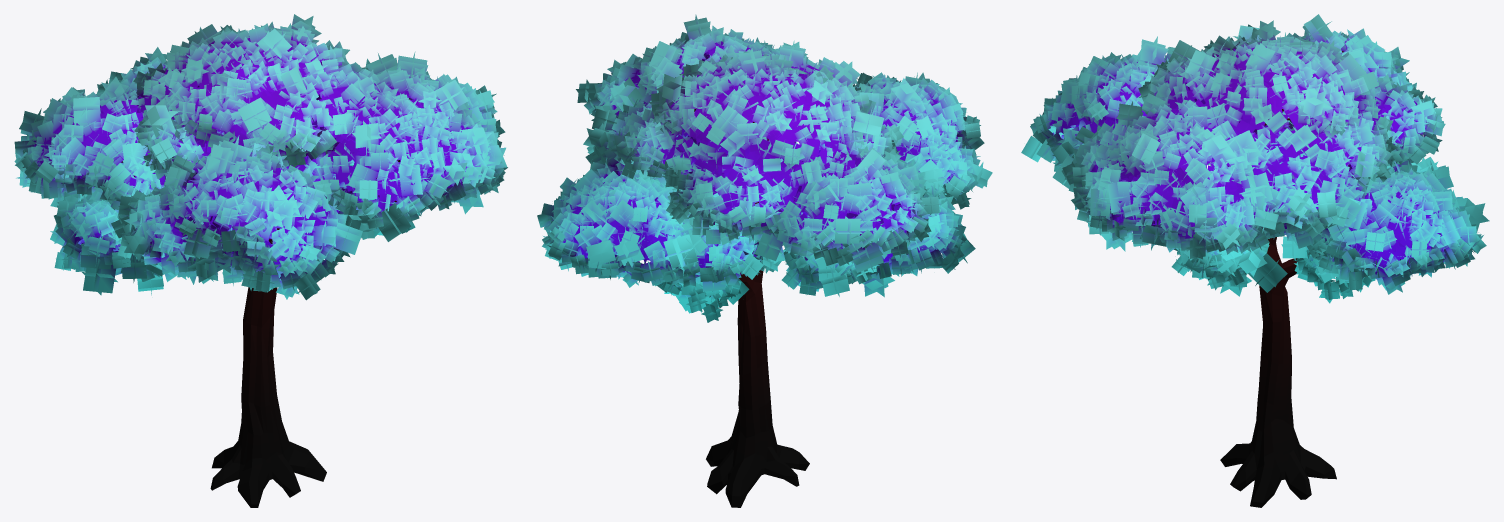
File: Arbol01 1.fbx
3 views of the same model, side by side, from view 1: azimuth 30°, elevation 25°; view 2: azimuth 150°, elevation 25°; view 3: azimuth 270°, elevation 25° (orthographic). The views are drawn at different scales.
Visible parts, largest first — view 1: SM_Env_Tree_Forest_01_LOD0; view 2: SM_Env_Tree_Forest_01_LOD0; view 3: SM_Env_Tree_Forest_01_LOD0.
Part boxes in pixels (box(x1,y1,x2,y2)): SM_Env_Tree_Forest_01_LOD0: box(14, 14, 507, 507); SM_Env_Tree_Forest_01_LOD0: box(537, 14, 992, 507); SM_Env_Tree_Forest_01_LOD0: box(1021, 14, 1489, 507).
Size of the model in its own units: 1707 by 1695 by 1795.
